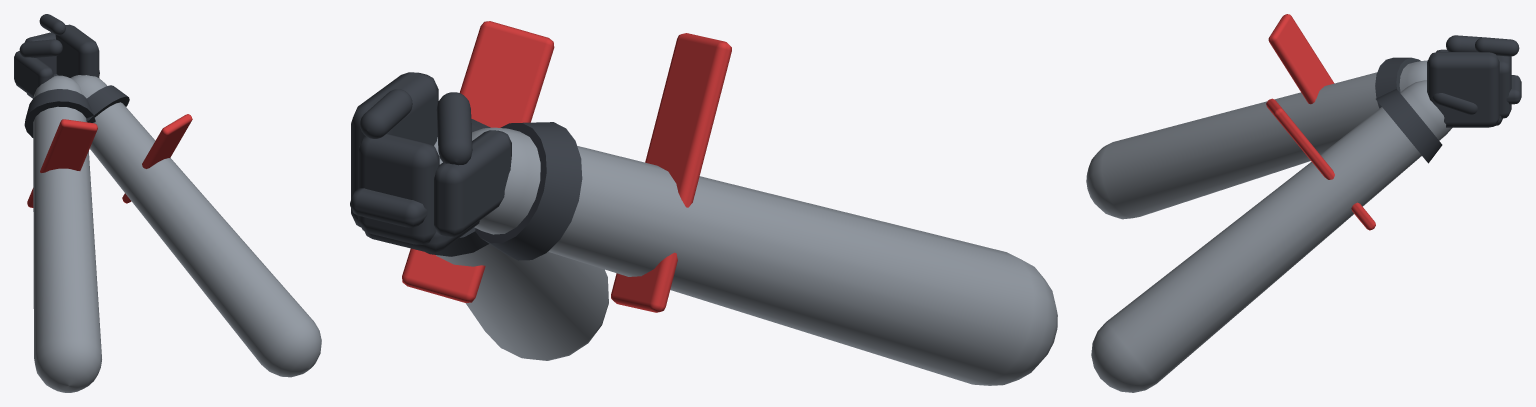
Rendered from staple.glb.
3 views of the same model, side by side, from view 1: azimuth 30°, elevation 25°; view 2: azimuth 150°, elevation 25°; view 3: azimuth 270°, elevation 25° (orthographic). The views are drawn at different scales.
Parts seen in each view (by area): view 1: forearm_R, forearm_L, arm_panel_L, palm_R, cuff_L, arm_panel_R, fingers_L, cuff_R, thumb_R, trigger_finger_R, fingers_R; view 2: forearm_L, forearm_R, arm_panel_L, arm_panel_R, cuff_L, fingers_R, fingers_L, palm_R, thumb_R, knuckles_R, trigger_finger_R, cuff_R (+1 smaller); view 3: forearm_R, forearm_L, palm_R, arm_panel_L, cuff_R, arm_panel_R, cuff_L, fingers_R, trigger_finger_R, thumb_L, thumb_R.
Boxes of the visible parts, x1,y1,x2,y2 form: forearm_R: (70, 75, 321, 377); forearm_L: (33, 75, 101, 392); arm_panel_L: (27, 119, 97, 207); palm_R: (55, 24, 99, 77); cuff_L: (24, 89, 95, 137); arm_panel_R: (122, 114, 192, 203); fingers_L: (14, 51, 53, 97); cuff_R: (86, 85, 129, 122); thumb_R: (19, 39, 62, 57); trigger_finger_R: (39, 14, 65, 35); fingers_R: (25, 32, 56, 74); forearm_L: (472, 127, 1057, 385); forearm_R: (434, 137, 608, 360); arm_panel_L: (611, 33, 731, 312); arm_panel_R: (402, 21, 554, 302); cuff_L: (475, 122, 582, 260); fingers_R: (358, 134, 439, 244); fingers_L: (434, 130, 511, 236); palm_R: (351, 72, 438, 227); thumb_R: (436, 92, 472, 165); knuckles_R: (350, 188, 427, 227); trigger_finger_R: (360, 89, 412, 138); cuff_R: (425, 119, 490, 256); forearm_R: (1091, 80, 1452, 392); forearm_L: (1086, 60, 1427, 219); palm_R: (1427, 52, 1499, 127); arm_panel_L: (1268, 14, 1334, 104); cuff_R: (1376, 89, 1442, 163); arm_panel_R: (1266, 98, 1375, 230); cuff_L: (1375, 57, 1420, 108); fingers_R: (1497, 55, 1511, 118); trigger_finger_R: (1475, 37, 1519, 56); thumb_L: (1432, 93, 1477, 114); thumb_R: (1446, 35, 1481, 51).
Size of the model in its own units: 0.4161 by 0.3715 by 0.4788.
